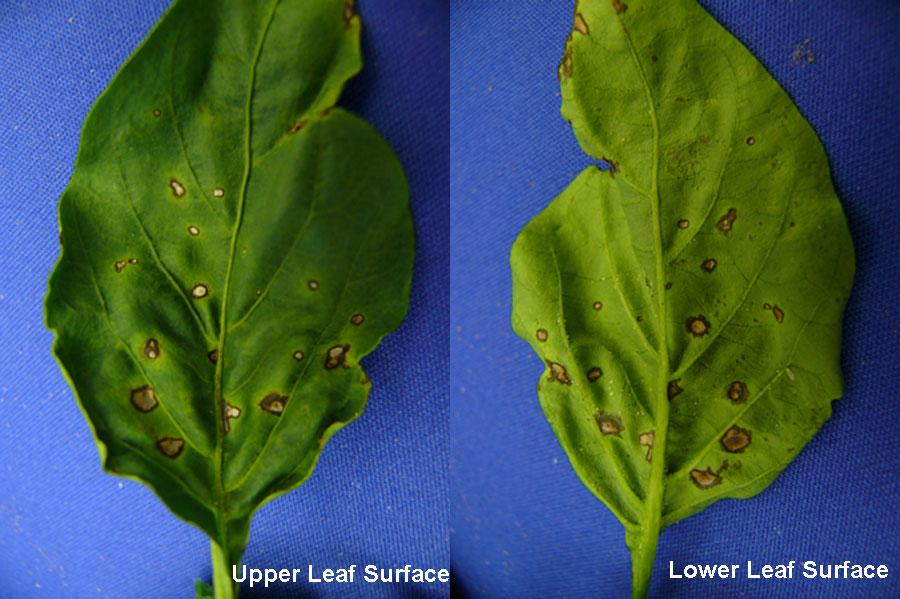Bell_pepper leaf: (46, 1, 423, 543), (505, 2, 863, 549)
